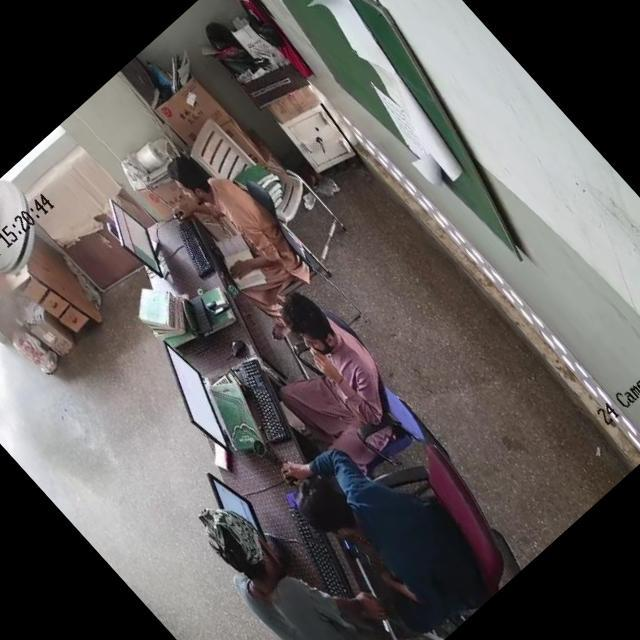person: (277, 412, 484, 628), (229, 275, 416, 469), (181, 492, 395, 640), (156, 138, 304, 296)
